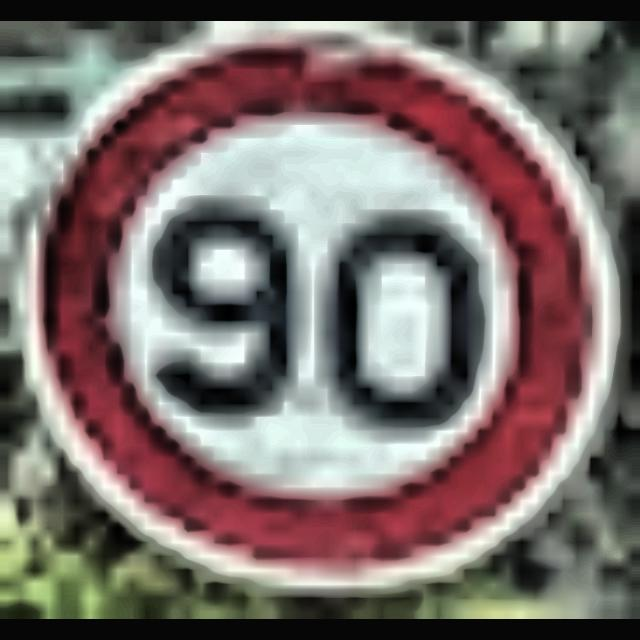speed_90: (0, 21, 640, 619)
